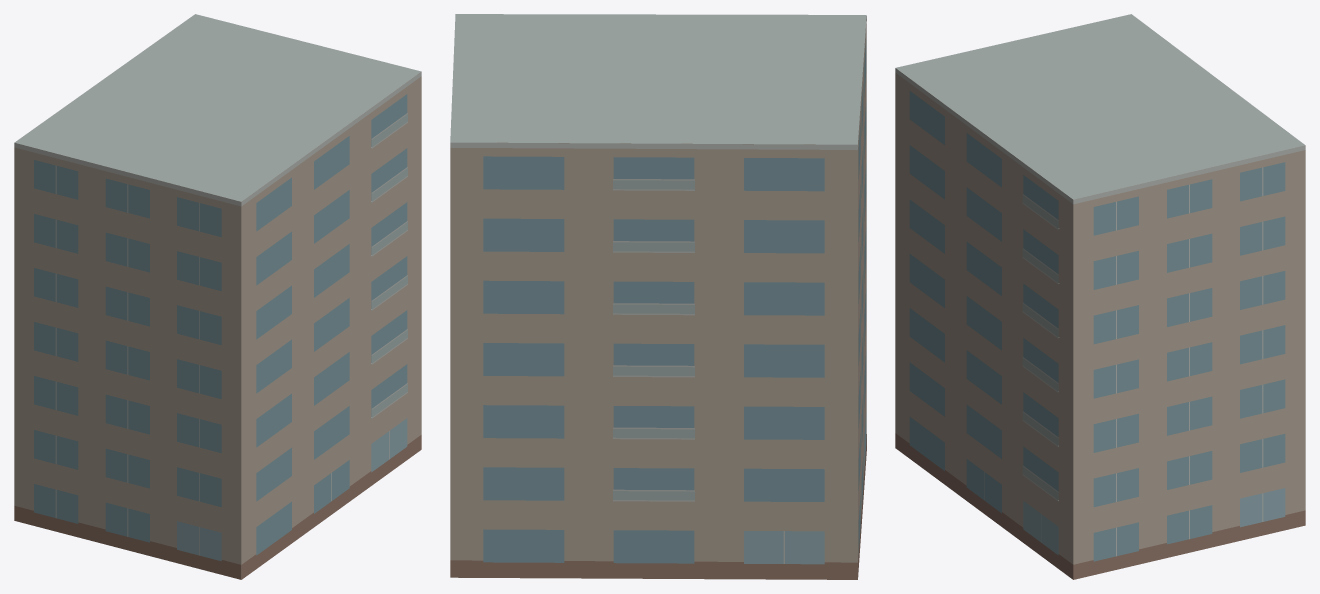
File: survey-upis-32991184.glb
3 views of the same model, side by side, from view 1: azimuth 30°, elevation 25°; view 2: azimuth 150°, elevation 25°; view 3: azimuth 270°, elevation 25° (orthographic). The views are drawn at different scales.
Visible parts, largest first — view 1: survey-upis-32991184.tmp; view 2: survey-upis-32991184.tmp; view 3: survey-upis-32991184.tmp.
Boxes of the visible parts, left/top/right/bottom form: survey-upis-32991184.tmp: left=14, top=14, right=421, bottom=579; survey-upis-32991184.tmp: left=450, top=14, right=866, bottom=579; survey-upis-32991184.tmp: left=895, top=14, right=1305, bottom=579.
Size of the model in its own units: 20.86 by 19.9 by 19.47.
